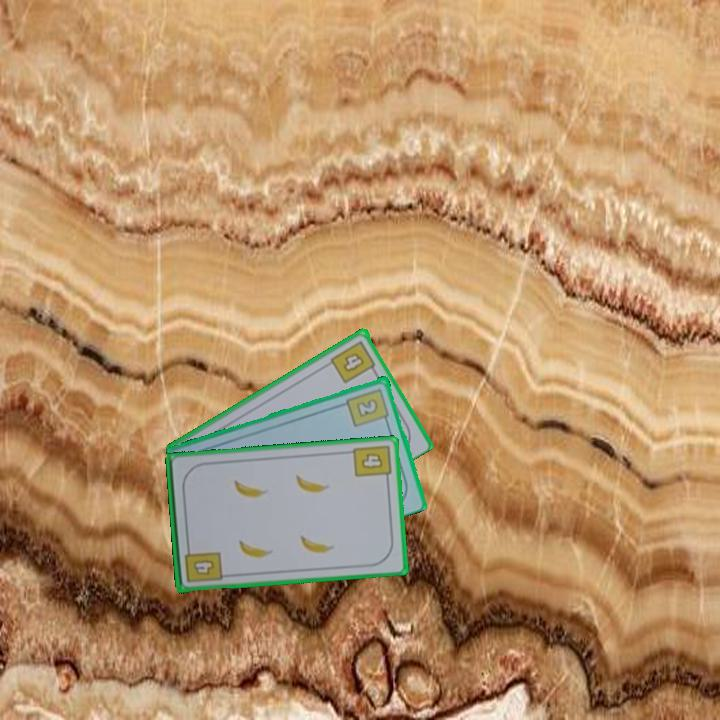2b: (343, 384, 392, 429)
4b: (327, 337, 380, 386), (350, 441, 393, 485), (181, 542, 224, 585)
